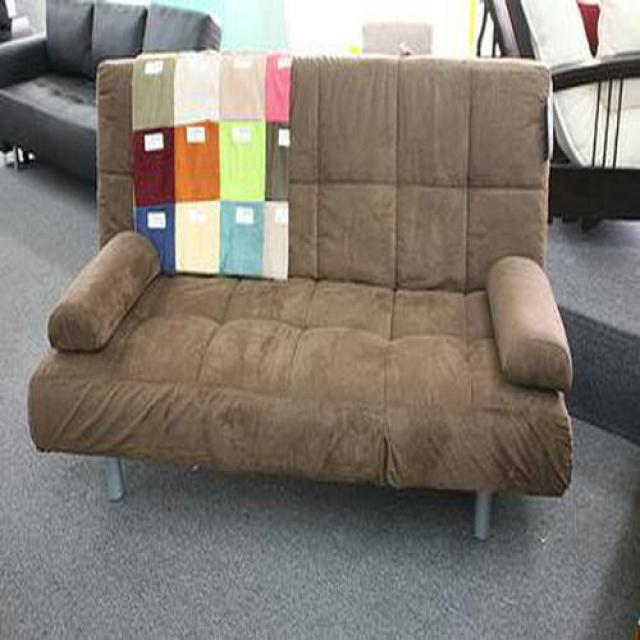sofa: (27, 52, 573, 540)
